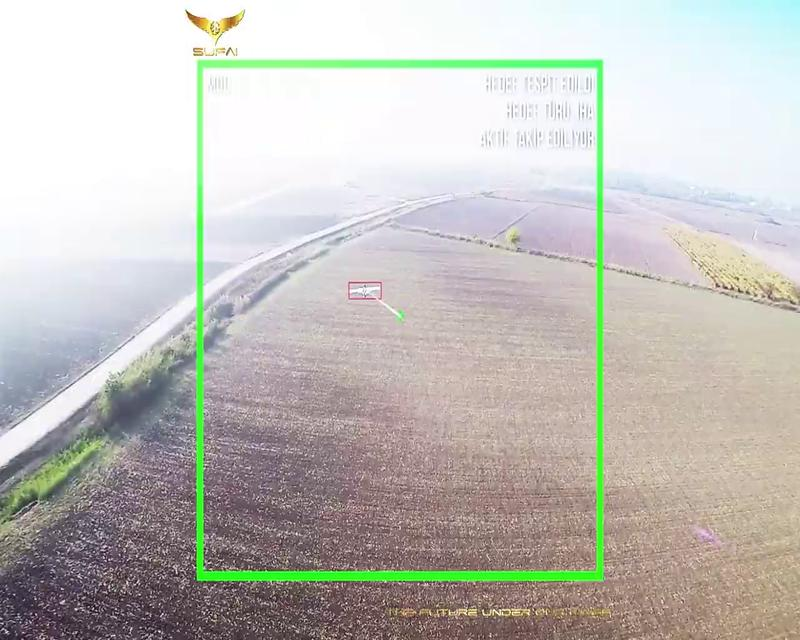UAV: (350, 282, 381, 299)
